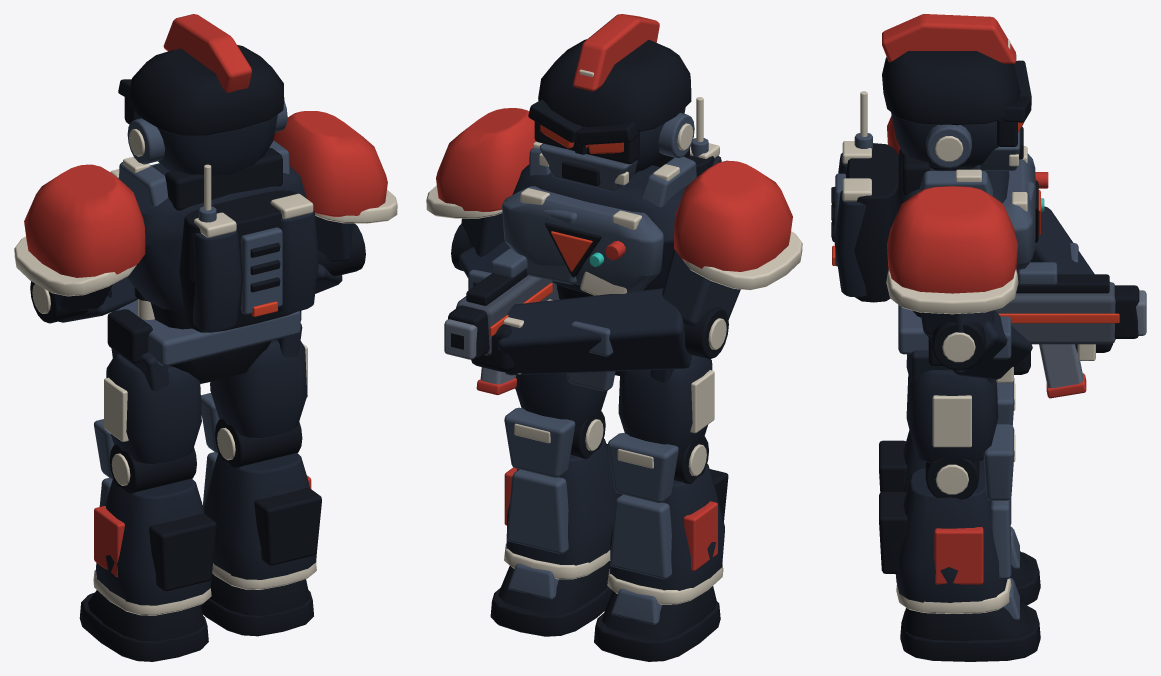
File: enemy_mobile.glb
3 renders of one model, left to right at view 1: azimuth 30°, elevation 25°; view 2: azimuth 150°, elevation 25°; view 3: azimuth 270°, elevation 25°, orthographic.
Parts seen in each view (by area): view 1: Torso, LeftLeg, RightLeg, Helmet, LeftPad, RightPad, Head, RightArm, LeftArm, LeftPadTrim; view 2: LeftLeg, RightLeg, LeftArm, Helmet, Vest, LeftPad, Torso, RightPad, EnemyGun, Head, RightArm, LeftPadTrim (+2 smaller); view 3: RightLeg, Torso, Helmet, RightPad, EnemyGun, RightArm, Head, LeftLeg, Vest, LeftArm.
Part boxes in pixels (x1,y1,x2,y2): Torso: (107, 140, 318, 390); LeftLeg: (79, 353, 216, 661); RightLeg: (201, 339, 321, 636); Helmet: (118, 14, 284, 135); LeftPad: (24, 164, 145, 277); RightPad: (273, 111, 387, 216); Head: (124, 97, 287, 175); RightArm: (315, 189, 397, 293); LeftArm: (30, 277, 137, 323); LeftPadTrim: (14, 236, 136, 296); LeftLeg: (594, 355, 728, 661); RightLeg: (490, 373, 620, 636); LeftArm: (471, 250, 740, 375); Helmet: (528, 14, 691, 145); Vest: (502, 186, 663, 292); LeftPad: (674, 160, 792, 271); Torso: (512, 97, 721, 391); RightPad: (436, 108, 535, 211); EnemyGun: (444, 248, 558, 395); Head: (534, 107, 694, 191); RightArm: (426, 185, 552, 300); LeftPadTrim: (682, 231, 802, 290); RightLeg: (879, 366, 1040, 661); Torso: (831, 91, 1009, 383); Helmet: (882, 14, 1031, 125); RightPad: (887, 186, 1017, 293); EnemyGun: (995, 262, 1146, 398); RightArm: (886, 269, 1032, 382); Head: (891, 112, 1023, 170); LeftLeg: (879, 354, 1040, 605); Vest: (1003, 146, 1040, 270); LeftArm: (1030, 206, 1112, 360).
Size of the model in its own units: 1.24 by 2.01 by 0.9629.
